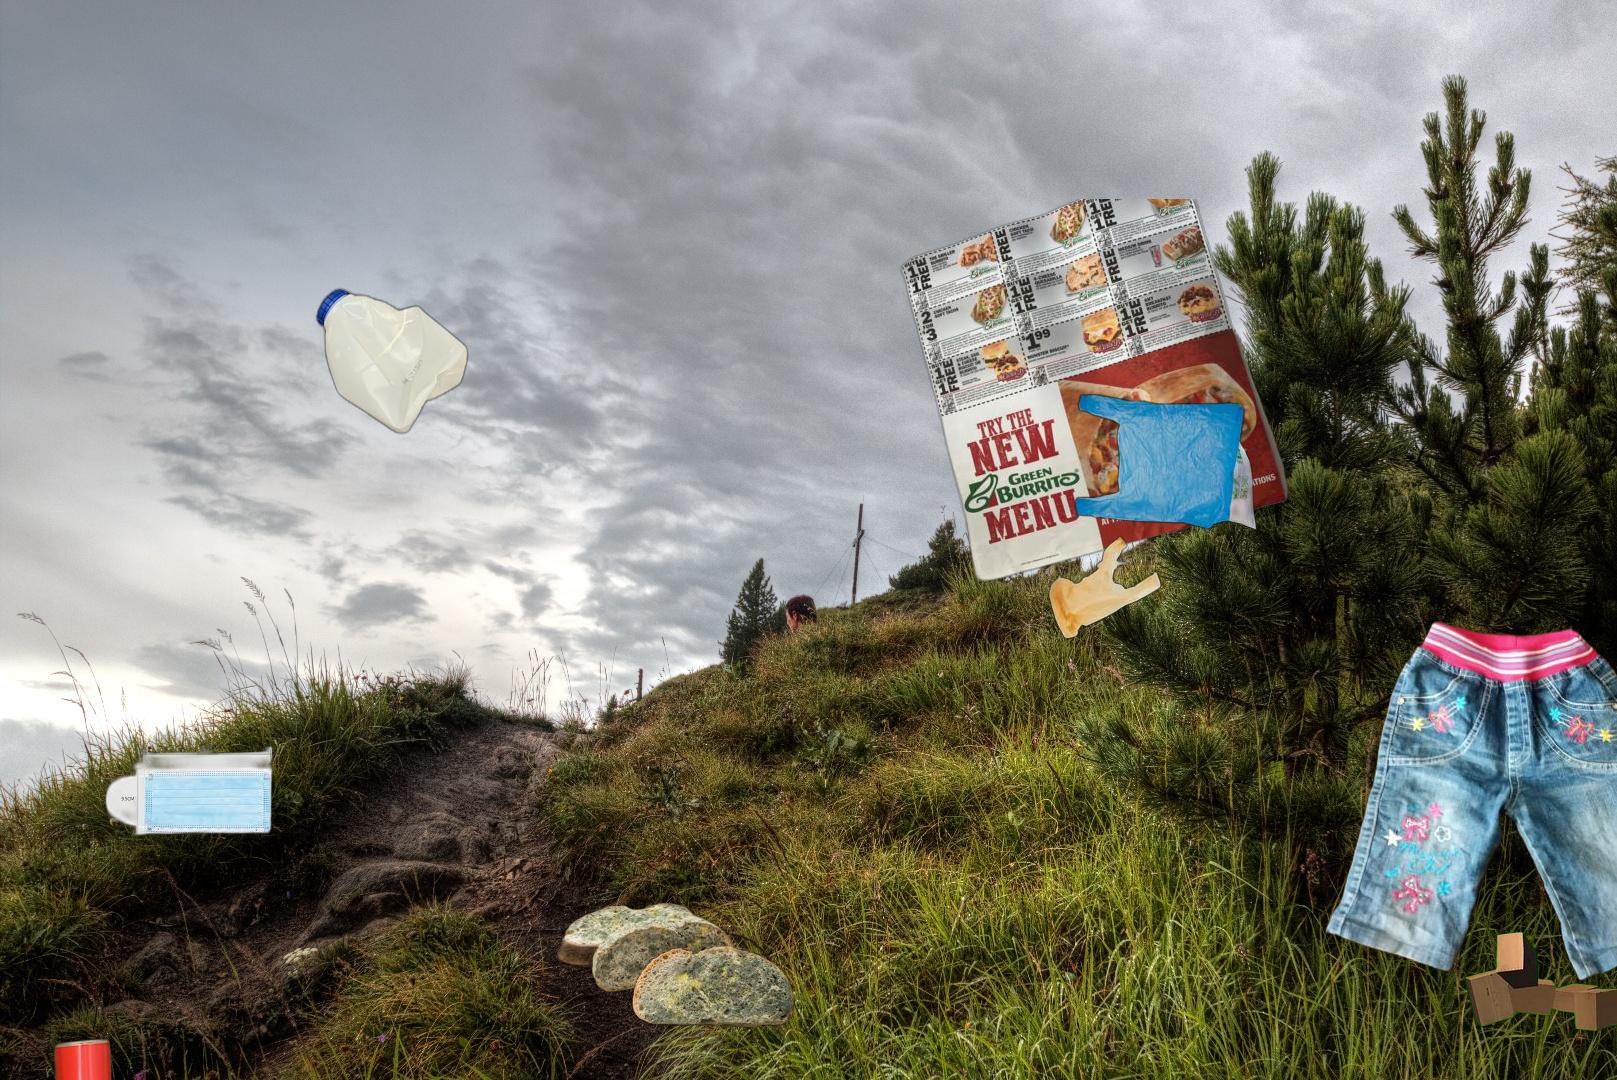biological: (549, 900, 796, 1037)
clothes: (1321, 618, 1617, 985)
metal-cans: (49, 1033, 120, 1080)
paper: (896, 199, 1293, 583)
plastic-bag: (1046, 385, 1283, 642)
plastic-bottles: (312, 283, 472, 439)
trash: (98, 681, 276, 843)
trashbox-cardboard: (1462, 929, 1617, 1034)
